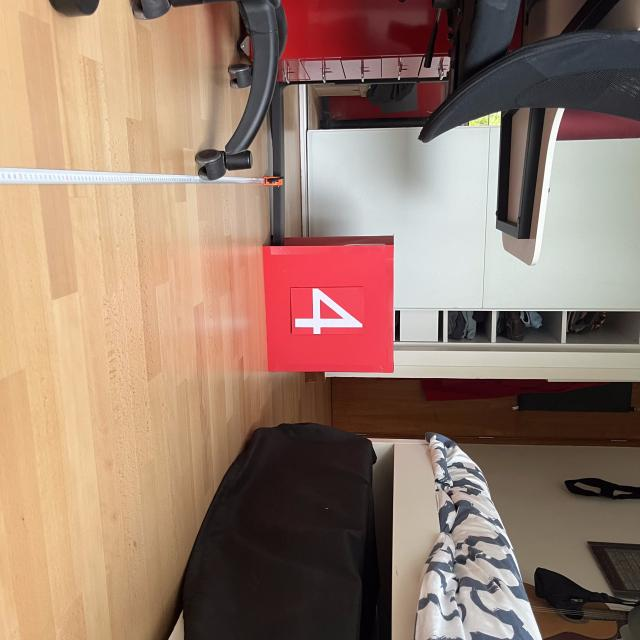box: (258, 232, 398, 376)
